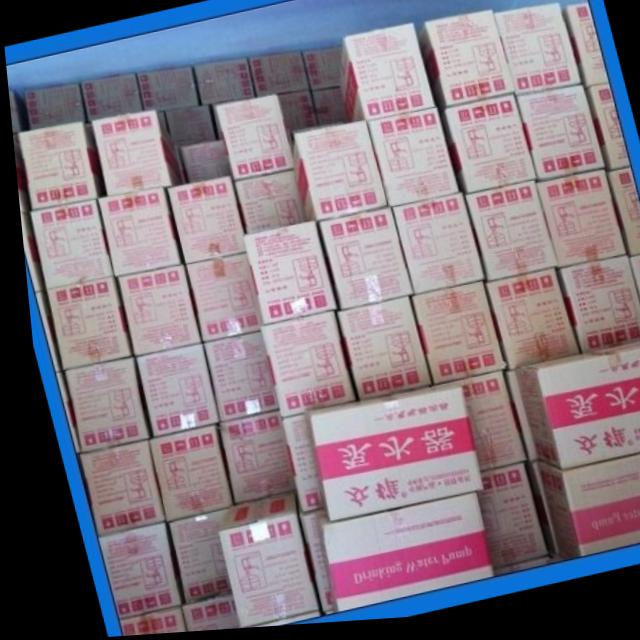box: (298, 388, 474, 525), (308, 499, 482, 616), (505, 347, 640, 476), (207, 496, 306, 630), (527, 459, 640, 566), (252, 315, 347, 422), (404, 288, 499, 391), (416, 15, 512, 115), (386, 198, 479, 301), (477, 276, 571, 377), (237, 226, 331, 327), (331, 301, 424, 403), (313, 212, 405, 315), (336, 27, 430, 127), (289, 125, 383, 225), (436, 101, 532, 198), (459, 187, 551, 288), (364, 112, 456, 212), (550, 263, 640, 359), (531, 178, 619, 275), (513, 92, 600, 188), (69, 441, 154, 537), (57, 358, 142, 453), (493, 9, 580, 101), (87, 524, 170, 620), (89, 113, 182, 197), (141, 427, 221, 524), (42, 278, 126, 369), (129, 345, 210, 439), (16, 121, 102, 209), (111, 267, 194, 358), (94, 190, 178, 279), (25, 199, 108, 289), (465, 469, 536, 573), (445, 377, 517, 477), (211, 97, 291, 184), (211, 414, 285, 508), (163, 179, 241, 266), (180, 256, 257, 344), (197, 335, 269, 424), (159, 512, 219, 604), (230, 174, 302, 237), (273, 418, 315, 515), (561, 9, 607, 97), (583, 93, 626, 179), (602, 175, 640, 264), (290, 513, 322, 615), (21, 83, 85, 130), (191, 59, 252, 107), (496, 376, 528, 467), (515, 467, 545, 561), (79, 75, 140, 121), (135, 68, 197, 113), (247, 55, 307, 99), (170, 595, 225, 633), (178, 144, 227, 186), (31, 292, 56, 372), (163, 107, 212, 147), (47, 372, 70, 454), (16, 214, 40, 292), (107, 609, 171, 637), (276, 93, 315, 135), (300, 51, 338, 93), (311, 93, 344, 129), (623, 262, 640, 330), (11, 142, 27, 213), (233, 616, 307, 630), (7, 89, 27, 133)
